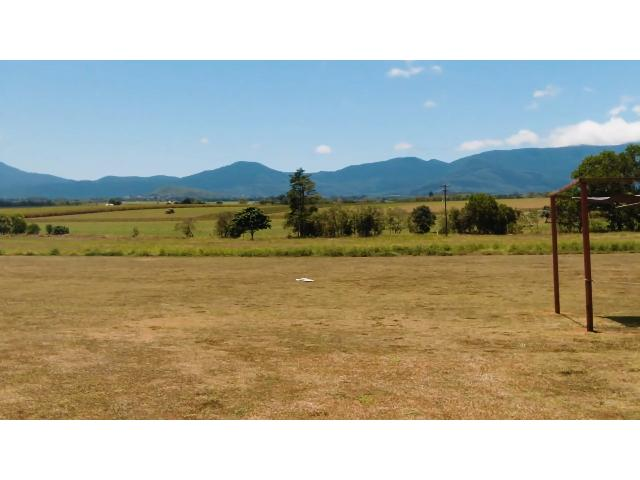Anti-Drone: (292, 269, 320, 289)
